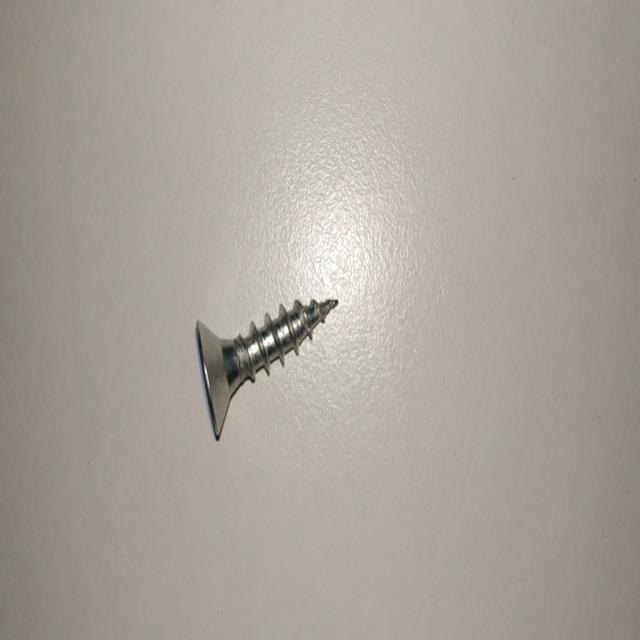Screw: (195, 299, 338, 439)
